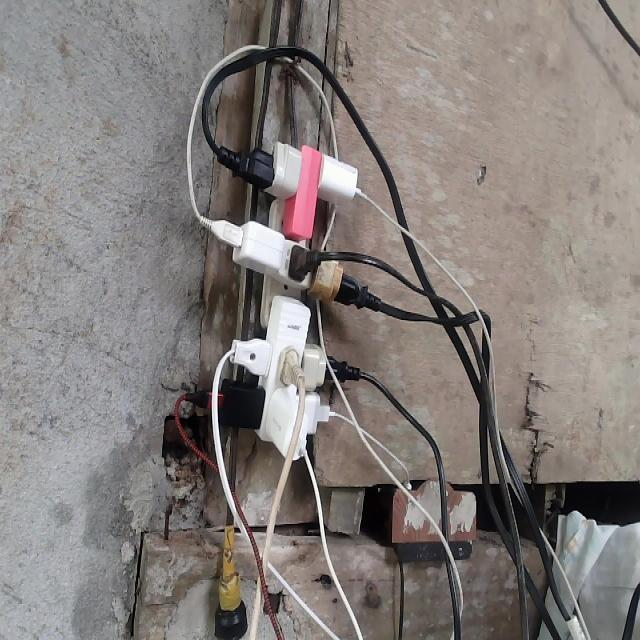-: (201, 137, 364, 459)
